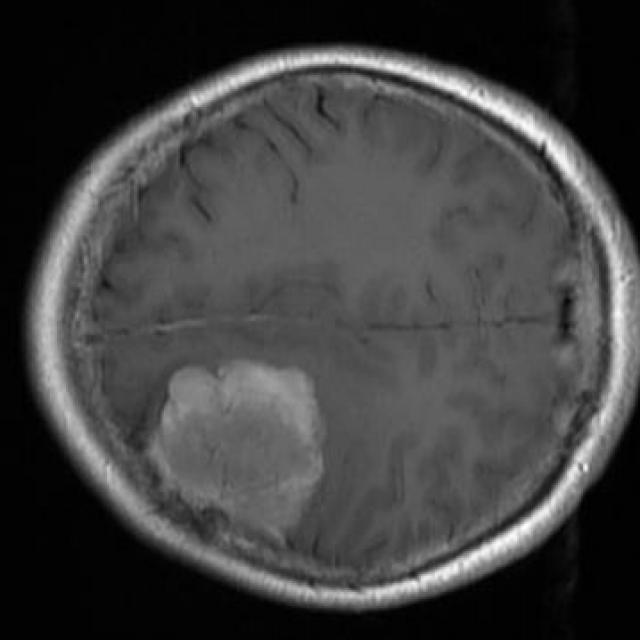meningioma: (157, 362, 323, 526)
